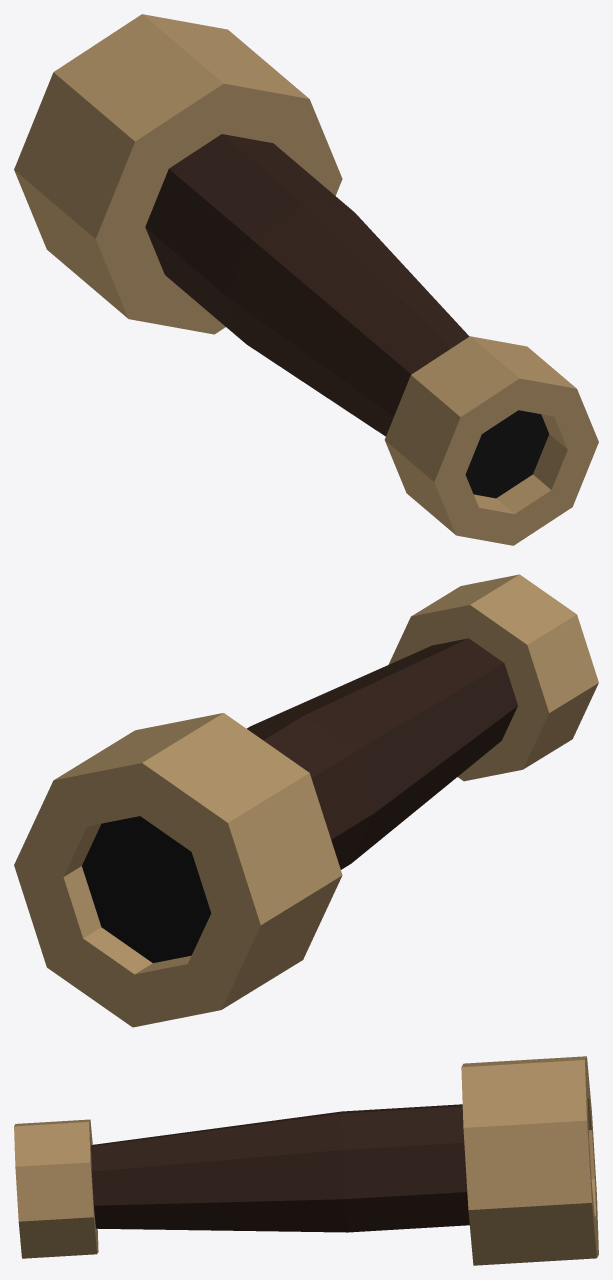
Rendered from Catalejo.fbx.
3 views of the same model, one above another, from view 1: azimuth 30°, elevation 25°; view 2: azimuth 150°, elevation 25°; view 3: azimuth 270°, elevation 25° (orthographic). The views are drawn at different scales.
Parts seen in each view (by area): view 1: Catalejo; view 2: Catalejo; view 3: Catalejo.
Part boxes in pixels (box(x1,y1,x2,y2)): Catalejo: box(14, 14, 598, 545); Catalejo: box(14, 574, 598, 1027); Catalejo: box(14, 1056, 598, 1265).
Bounding box in the file's own units: 0.1696 × 0.1756 × 0.4606.
